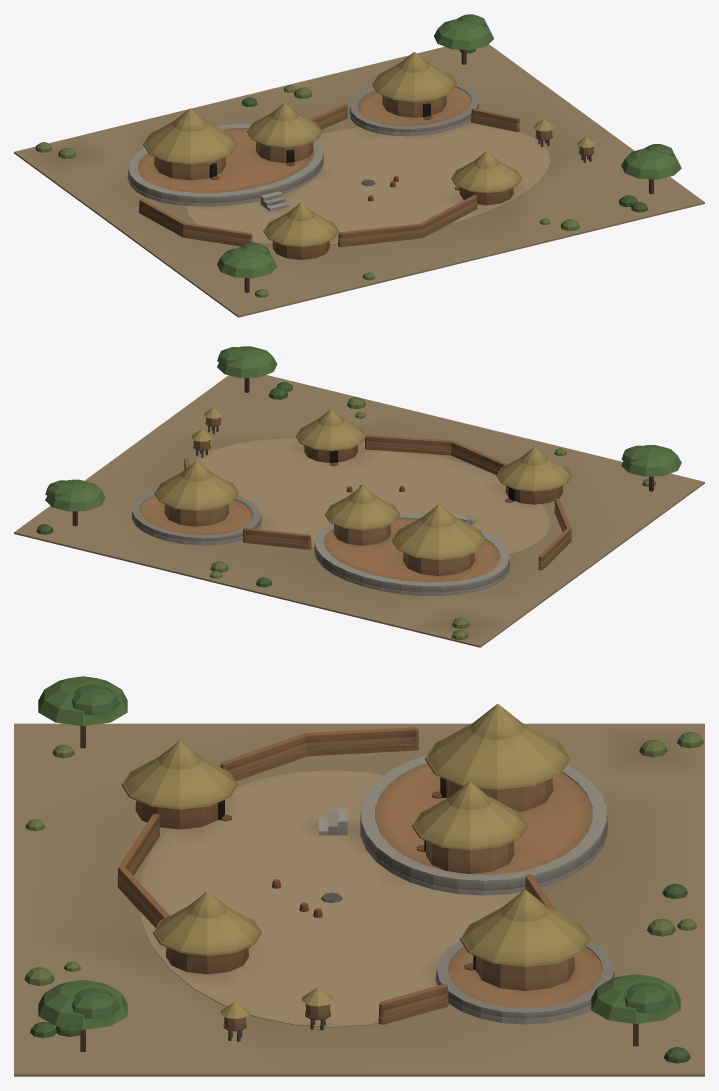
File: elite-houses.glb
3 renders of one model, top to bottom at view 1: azimuth 30°, elevation 25°; view 2: azimuth 150°, elevation 25°; view 3: azimuth 270°, elevation 25°, orthographic. The views are drawn at different scales.
Visible parts, largest first — view 1: p0_ground, p2_houses, p1_platforms; view 2: p0_ground, p2_houses, p1_platforms; view 3: p0_ground, p2_houses, p1_platforms.
Boxes of the visible parts, <box> form: p0_ground: <box>14,44,704,317</box>; p2_houses: <box>35,14,681,297</box>; p1_platforms: <box>127,83,479,211</box>; p0_ground: <box>14,375,704,647</box>; p2_houses: <box>36,346,681,639</box>; p1_platforms: <box>131,491,510,595</box>; p0_ground: <box>14,723,704,1076</box>; p2_houses: <box>24,676,703,1063</box>; p1_platforms: <box>318,755,614,1024</box>.
Bounding box in the file's own units: 60 × 8.35 × 50.
